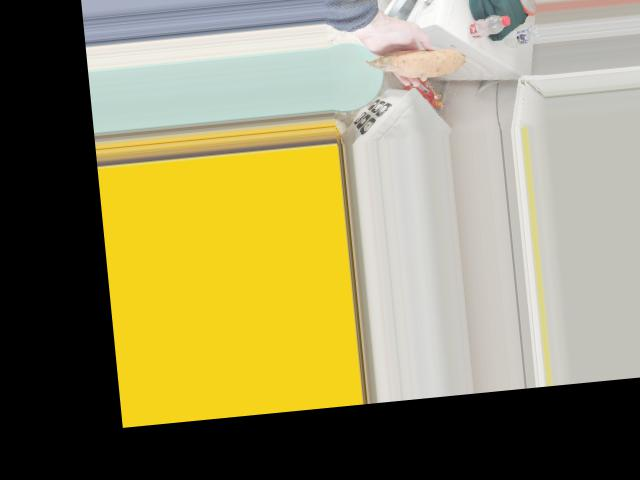sweet_potato: (385, 38, 475, 80)
